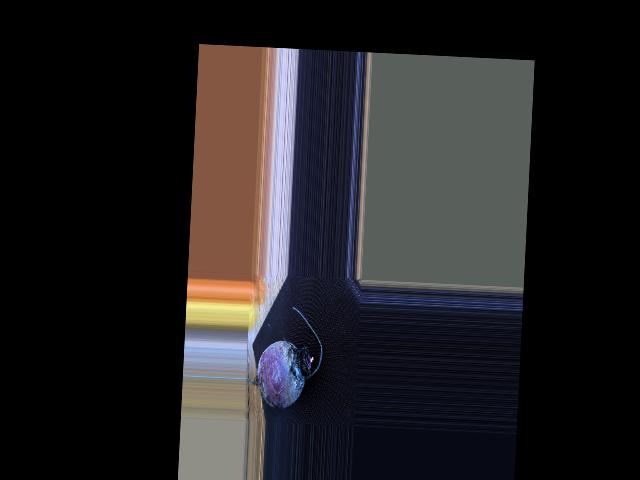beet: (244, 304, 325, 411)
